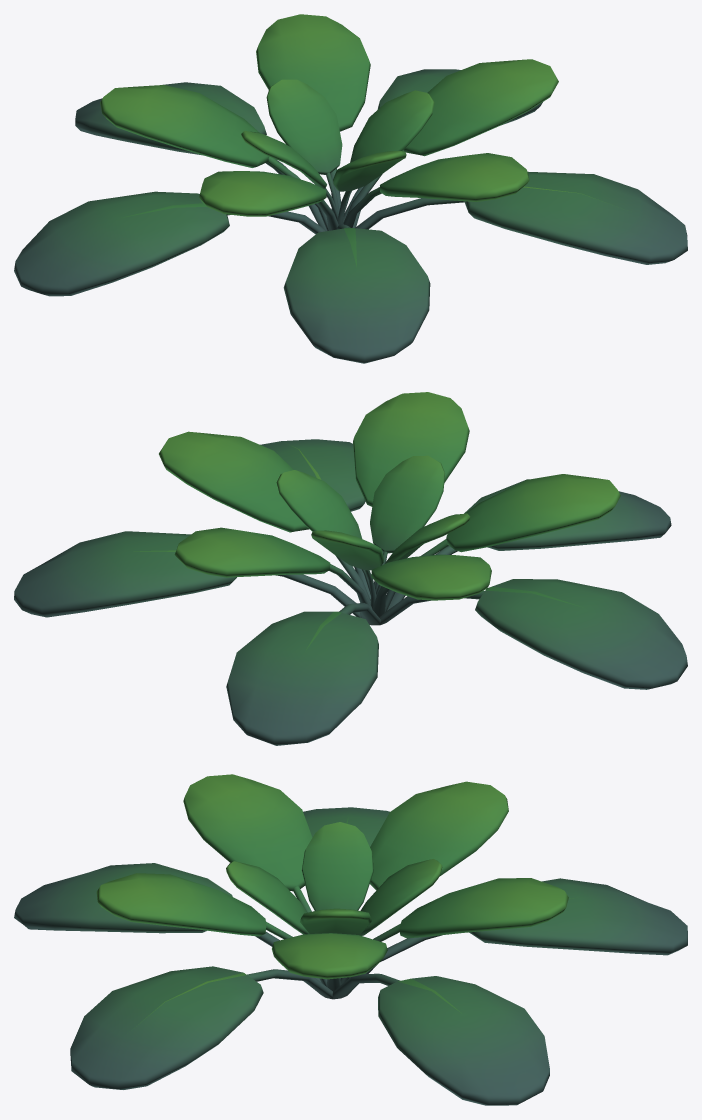
The model's file is Plants_024.fbx.
3 views of the same model, one above another, from view 1: azimuth 30°, elevation 25°; view 2: azimuth 150°, elevation 25°; view 3: azimuth 270°, elevation 25° (orthographic). The views are drawn at different scales.
Visible parts, largest first — view 1: Plants.024; view 2: Plants.024; view 3: Plants.024.
Boxes of the visible parts, x1,y1,x2,y2 form: Plants.024: (14,14,687,363); Plants.024: (14,392,687,745); Plants.024: (14,774,687,1105).
Bounding box in the file's own units: 986 × 207 × 969.
